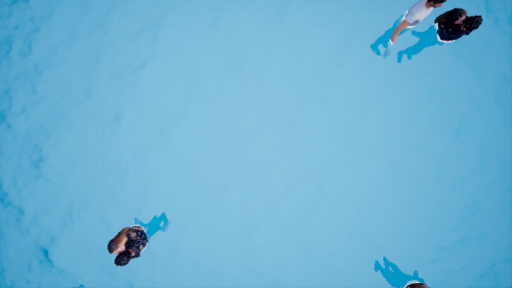person: (370, 1, 481, 67), (100, 215, 165, 265)
